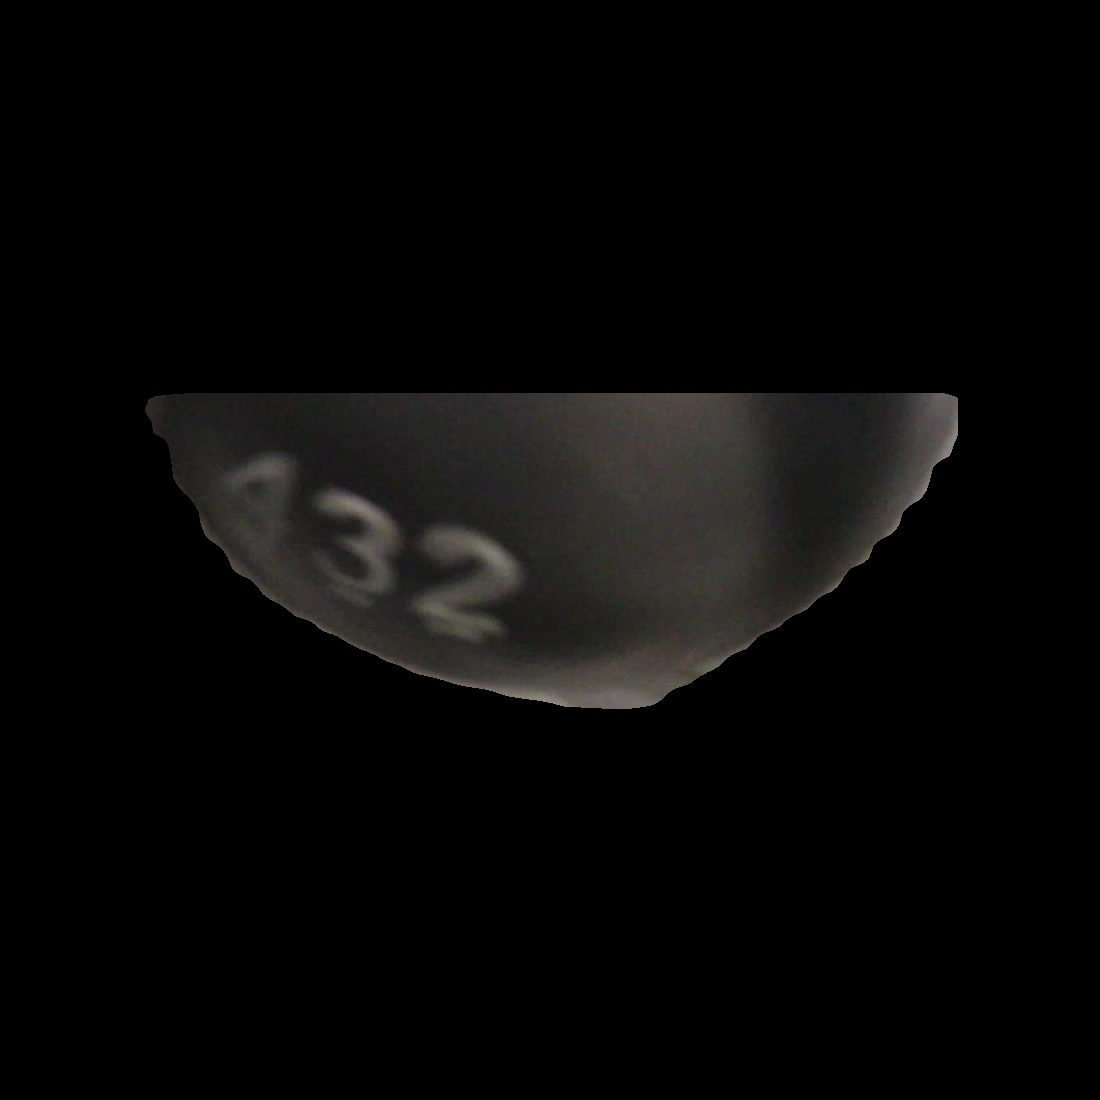digits: (200, 440, 532, 660)
